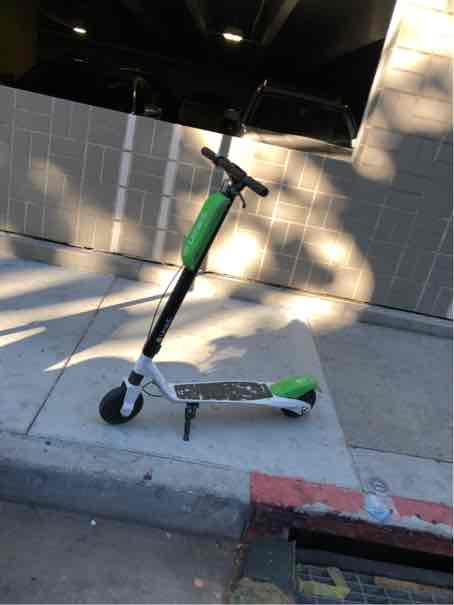scooter: (89, 127, 335, 439)
